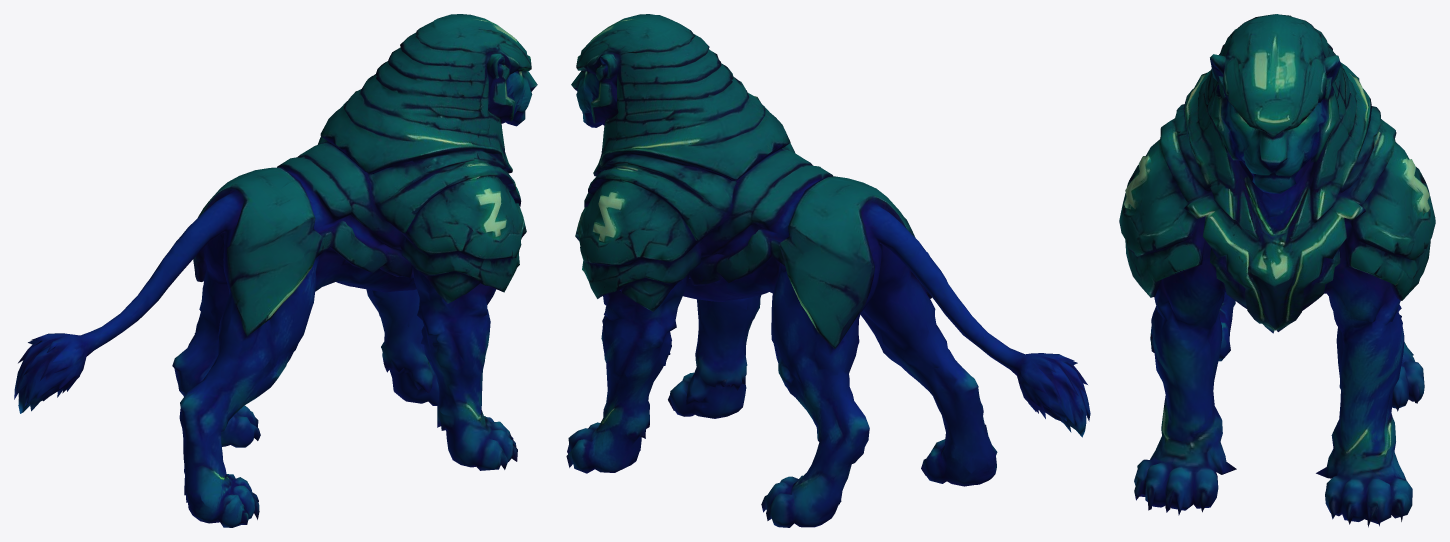
Rendered from DROWSEPAW.glb.
The picture shows the model from 3 angles, left to right: view 1: azimuth 30°, elevation 25°; view 2: azimuth 150°, elevation 25°; view 3: azimuth 270°, elevation 25°; orthographic projection. The views are drawn at different scales.
Visible parts, largest first — view 1: tripo_node_9c03e8c8-3df0-4816-be1c-1ef9f38581a9; view 2: tripo_node_9c03e8c8-3df0-4816-be1c-1ef9f38581a9; view 3: tripo_node_9c03e8c8-3df0-4816-be1c-1ef9f38581a9.
Part boxes in pixels (bbox=[...]): tripo_node_9c03e8c8-3df0-4816-be1c-1ef9f38581a9: bbox=[14, 14, 537, 527]; tripo_node_9c03e8c8-3df0-4816-be1c-1ef9f38581a9: bbox=[566, 14, 1090, 527]; tripo_node_9c03e8c8-3df0-4816-be1c-1ef9f38581a9: bbox=[1119, 14, 1435, 527].
Bounding box in the file's own units: 1.32 × 1 × 0.5898.
1 material, 1 textured.
